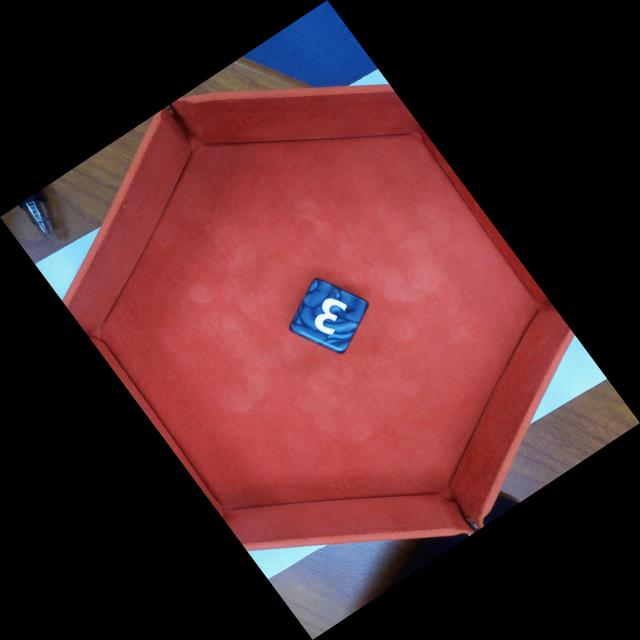dice: (291, 279, 371, 351)
